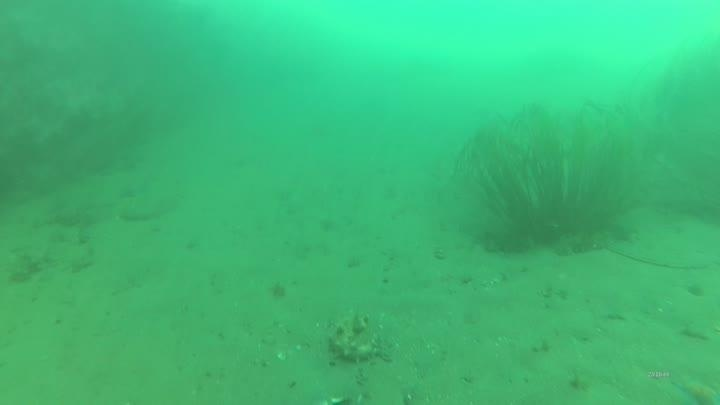holothurian: (325, 308, 381, 367), (551, 227, 621, 259)
starfish: (671, 374, 720, 405)
